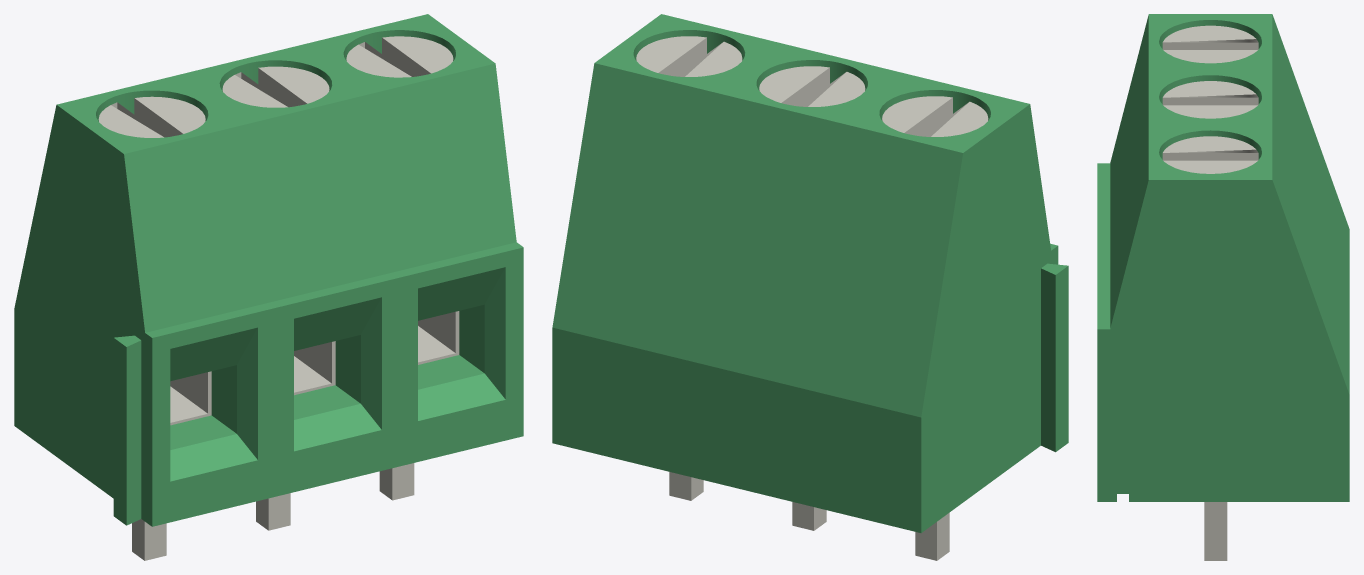
Rendered from terminalblock_phoenix_mkds_1_5_3_5_08_1x03_p5_08mm_horizontal.glb.
3 views of the same model, side by side, from view 1: azimuth 30°, elevation 25°; view 2: azimuth 150°, elevation 25°; view 3: azimuth 270°, elevation 25° (orthographic). The views are drawn at different scales.
Parts seen in each view (by area): view 1: conn_terminal_3p, pin_1, pin_3, pin_2; view 2: conn_terminal_3p, pin_1, pin_3, pin_2; view 3: conn_terminal_3p, pin_3.
Part boxes in pixels (x1,y1,x2,y2): conn_terminal_3p: (14,14,523,526); pin_1: (132,519,166,560); pin_3: (379,463,414,500); pin_2: (256,493,290,530); conn_terminal_3p: (552,14,1068,532); pin_1: (915,513,949,560); pin_3: (669,472,703,500); pin_2: (792,502,826,530); conn_terminal_3p: (1097,14,1349,501); pin_3: (1204,502,1227,560).
Bounding box in the file's own units: 0.016 × 0.0173 × 0.0098.
